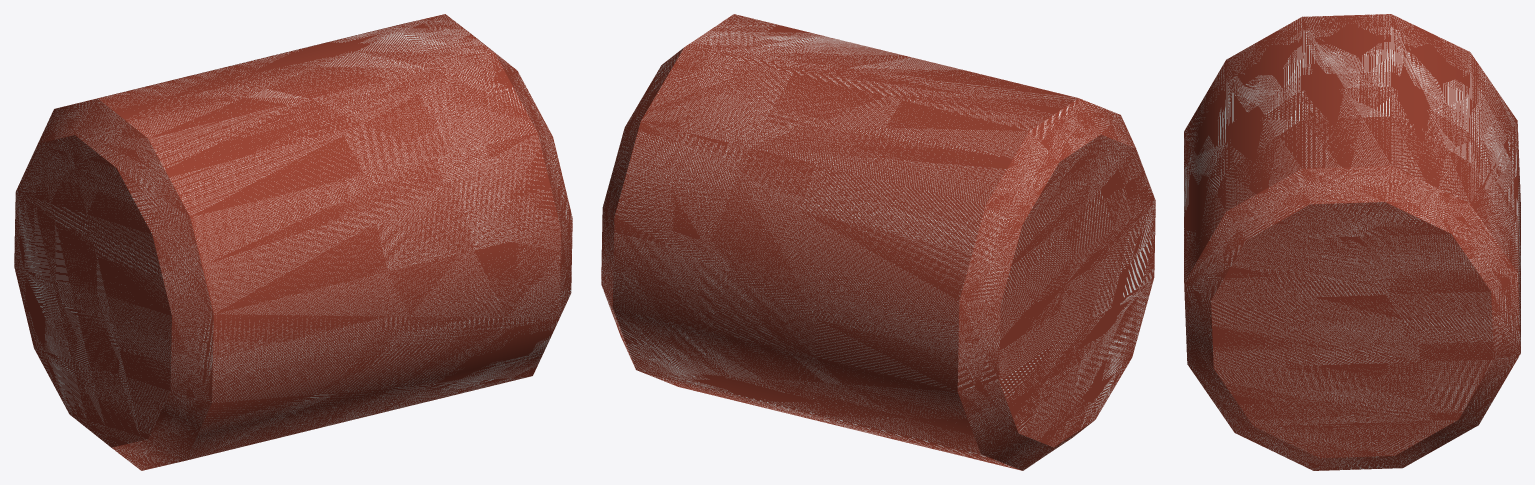
The model's file is original-4.obj.
The picture shows the model from 3 angles, left to right: view 1: azimuth 30°, elevation 25°; view 2: azimuth 150°, elevation 25°; view 3: azimuth 270°, elevation 25°; orthographic projection. The views are drawn at different scales.
Parts seen in each view (by area): view 1: mesh4/mesh4-geometry#mesh4-geometry; view 2: mesh4/mesh4-geometry#mesh4-geometry; view 3: mesh4/mesh4-geometry#mesh4-geometry.
Part boxes in pixels (left/top/right/bottom): mesh4/mesh4-geometry#mesh4-geometry: left=14, top=14, right=572, bottom=470; mesh4/mesh4-geometry#mesh4-geometry: left=601, top=14, right=1155, bottom=470; mesh4/mesh4-geometry#mesh4-geometry: left=1184, top=14, right=1520, bottom=470.
Size of the model in its own units: 0.0481 by 0.039 by 0.039.
